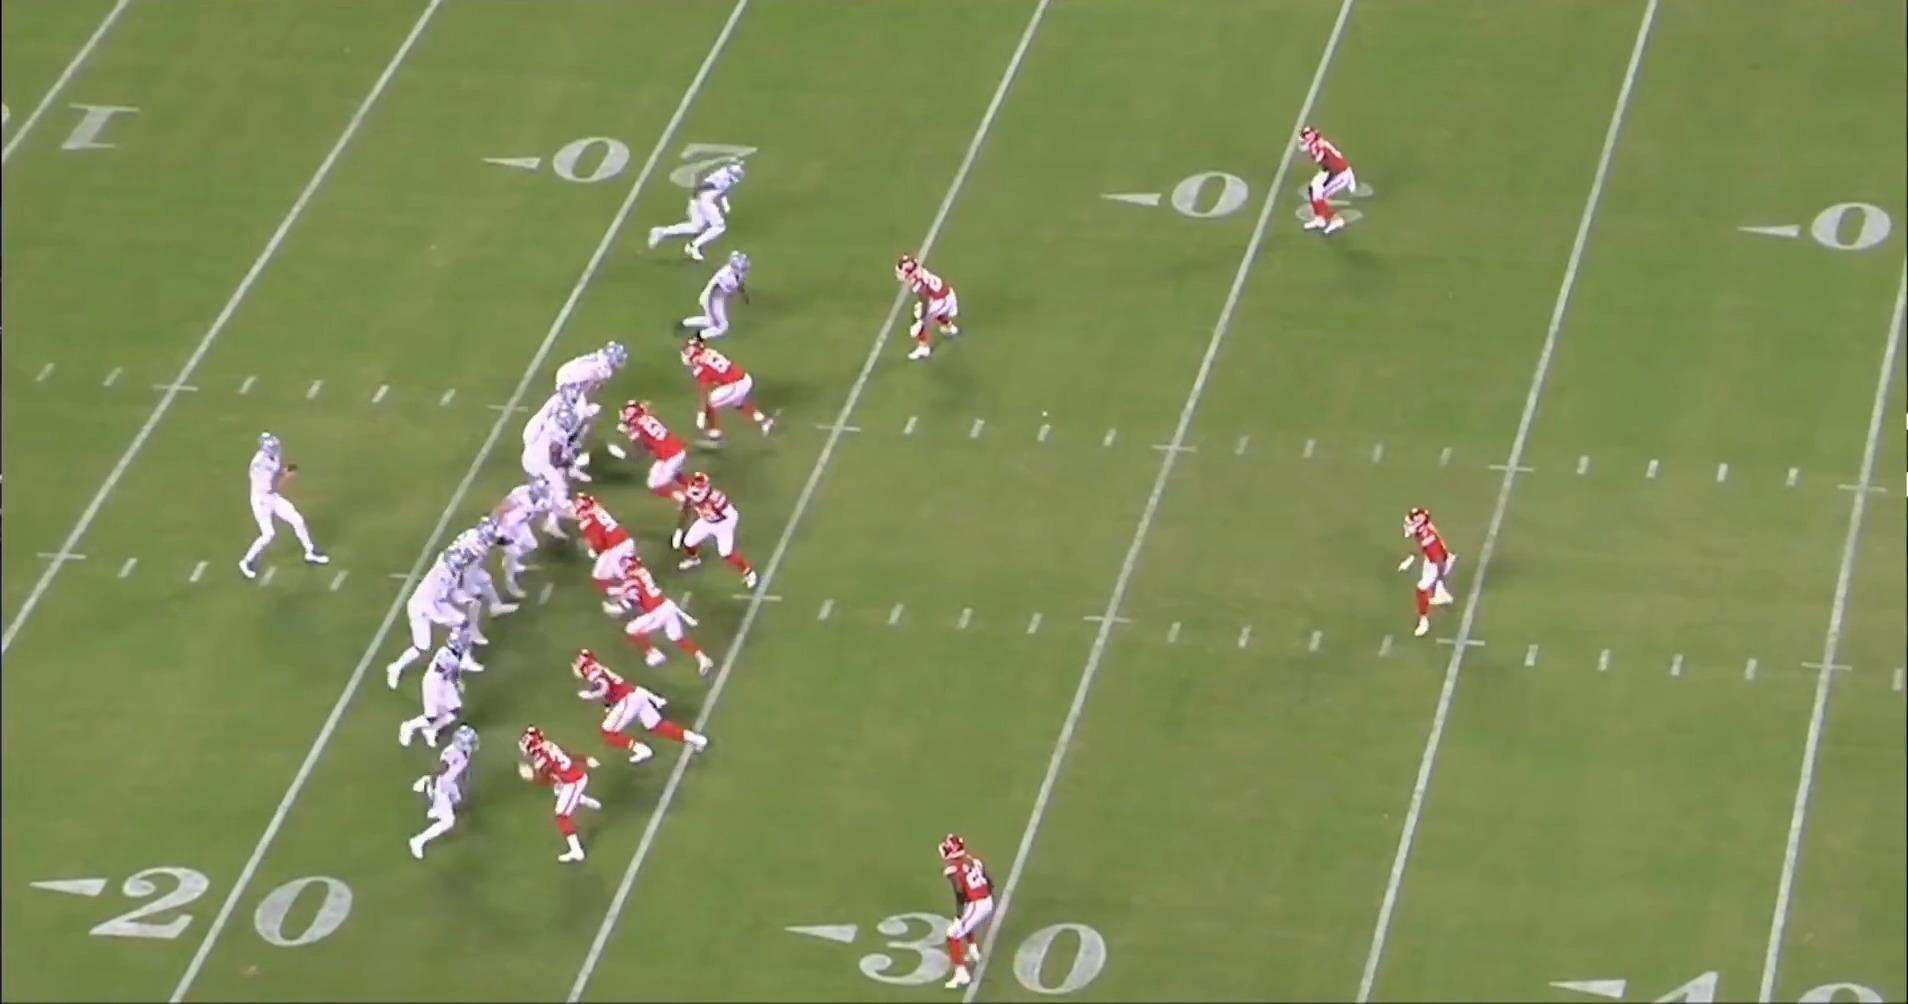defense: (565, 650, 708, 774), (604, 559, 719, 685), (512, 727, 598, 869), (934, 832, 1006, 999), (675, 473, 771, 595), (567, 489, 660, 614), (681, 338, 782, 450), (606, 400, 698, 507), (1401, 503, 1464, 638), (1292, 121, 1359, 241), (896, 248, 960, 363)
oline: (387, 559, 491, 694), (496, 468, 575, 576), (432, 515, 502, 628), (524, 410, 596, 501), (522, 381, 591, 441)
qb: (237, 424, 328, 580)
skill: (406, 725, 491, 869), (644, 158, 747, 269), (390, 632, 480, 756), (683, 243, 766, 347), (548, 337, 625, 411)
